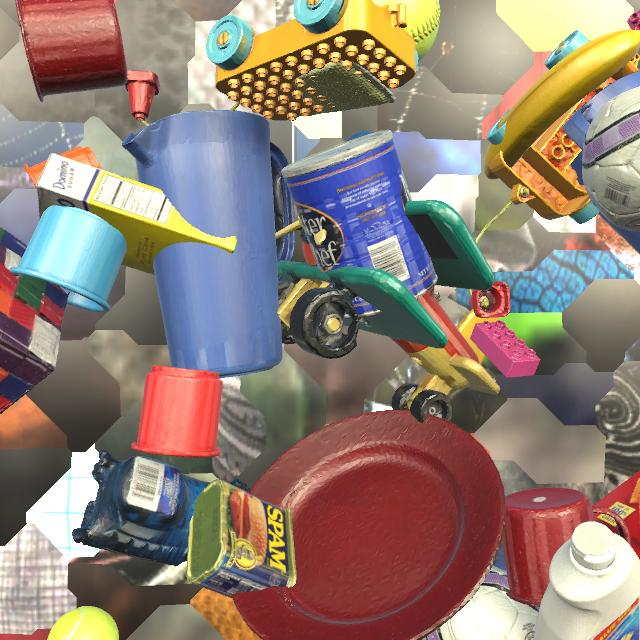ycb_002_master_chef_can: (281, 130, 438, 318)
ycb_003_cracker_box: (592, 471, 640, 559)
ycb_004_sugar_box: (36, 153, 237, 275)
ycb_010_potted_meat_can: (186, 479, 297, 601)
ycb_011_banana: (484, 29, 640, 179)
